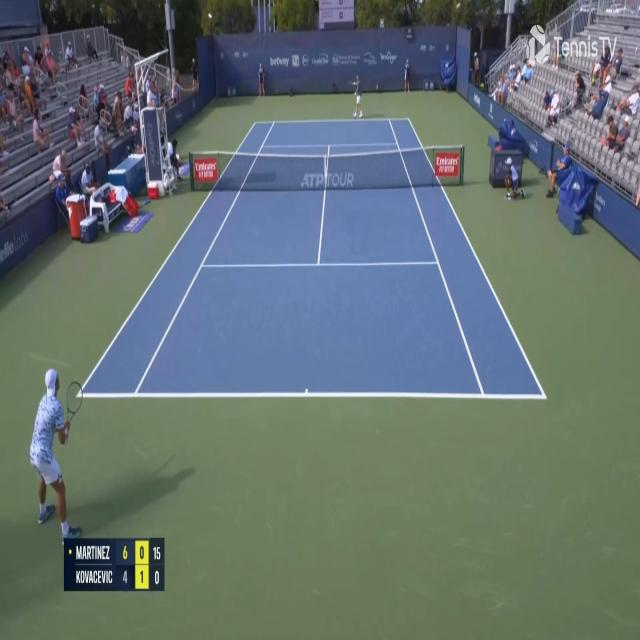tennis-player: (27, 364, 87, 540), (351, 72, 364, 121)
